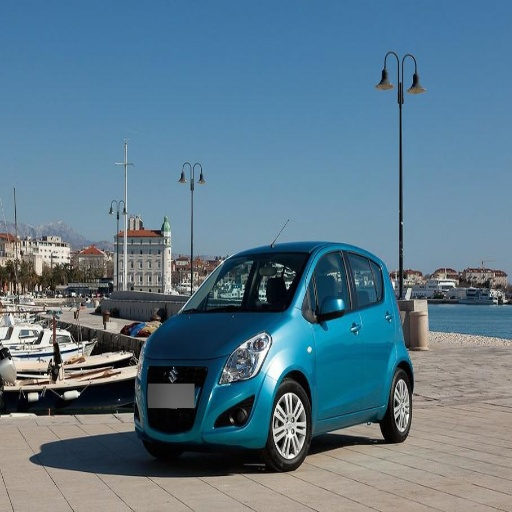front_bumper: (137, 356, 275, 448)
front_glass: (182, 251, 311, 313)
front_left_door: (310, 248, 364, 418)
